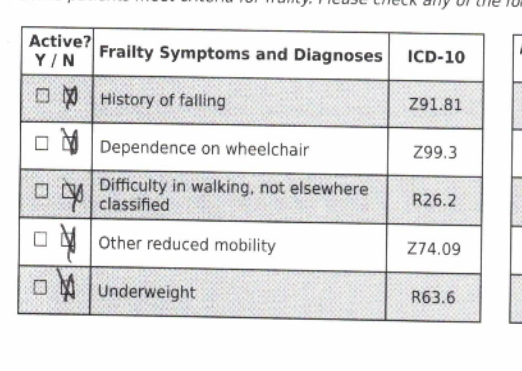checked: (56, 221, 82, 263), (59, 175, 86, 213), (57, 125, 85, 160), (54, 269, 82, 304), (60, 80, 83, 113)
